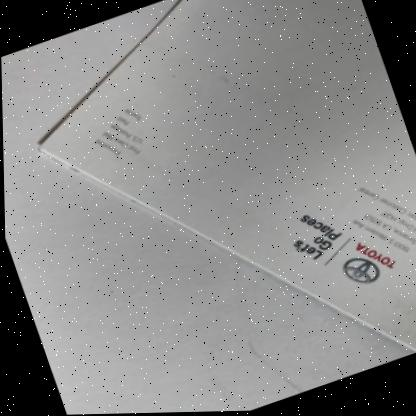Paper: (37, 0, 416, 354)
